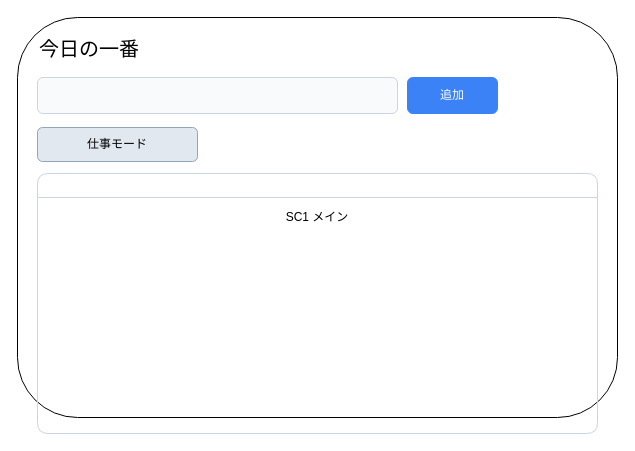
Some shapes in this 635 by 451 pixel diagram are drawn without their labels. Here are the shapes that lost their labels. From the top down, the centre of each, then its label:
At pixel 217 95: "タスクを入力".
At pixel 317 303: "リスト".
